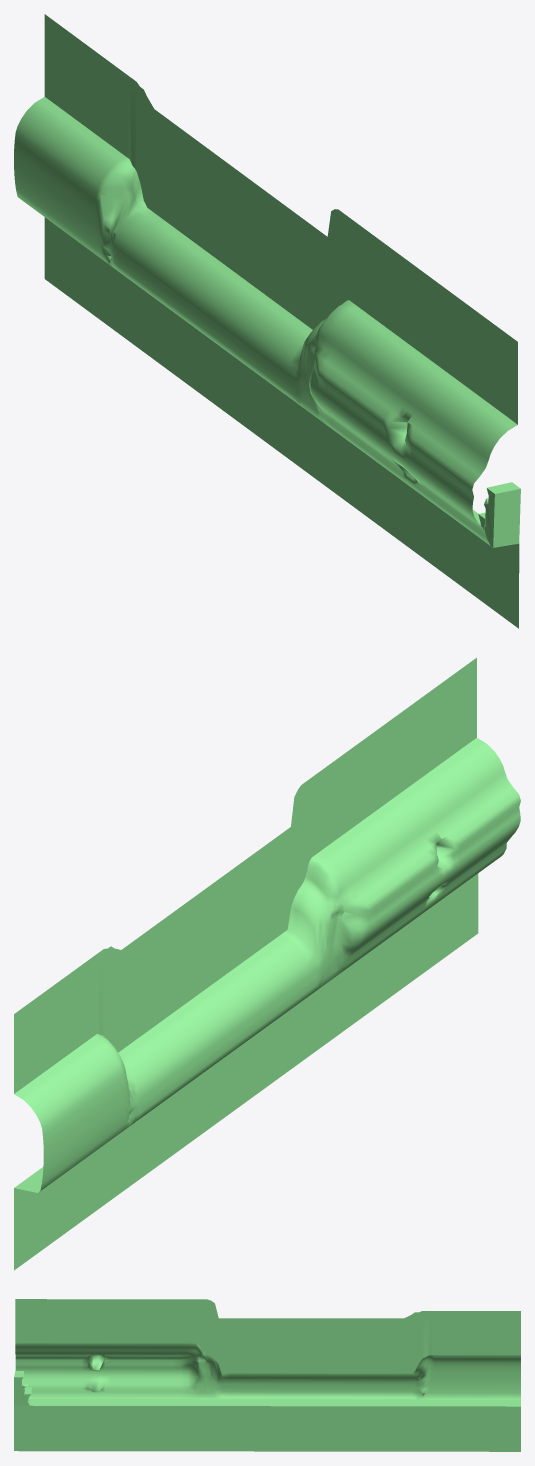
The model's file is Level 2 mesh.FBX.
The picture shows the model from 3 angles, top to bottom: view 1: azimuth 30°, elevation 25°; view 2: azimuth 150°, elevation 25°; view 3: azimuth 270°, elevation 25°; orthographic projection. The views are drawn at different scales.
Parts seen in each view (by area): view 1: part 6; view 2: part 6; view 3: part 6.
Boxes of the visible parts, <box> form: part 6: <box>14,14,520,628</box>; part 6: <box>14,657,520,1270</box>; part 6: <box>14,1299,520,1451</box>.
Bounding box in the file's own units: 990 × 5610 × 16954.
